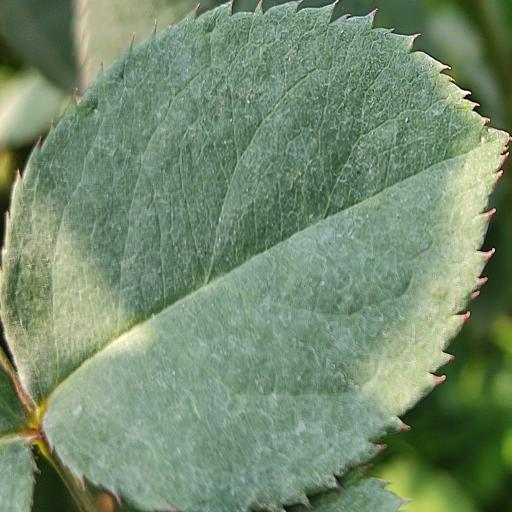healthy_leaf: (0, 1, 509, 512)
